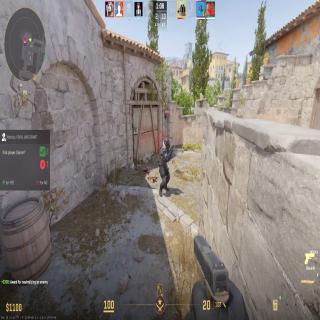CT-Body: (159, 138, 172, 198)
CT-Head: (164, 136, 170, 150)
